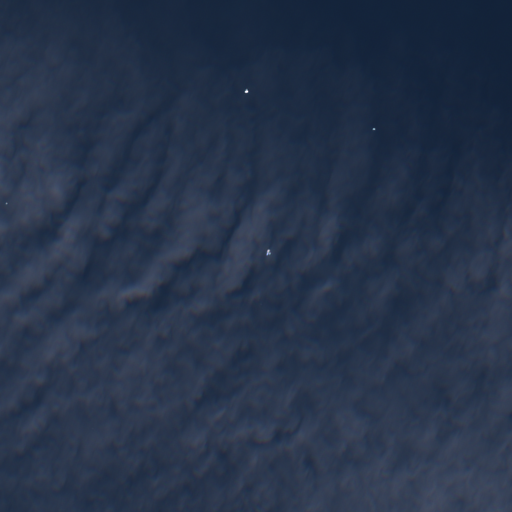Iceberg: (267, 250, 270, 254), (245, 89, 248, 92), (5, 202, 7, 204), (372, 128, 374, 129)
